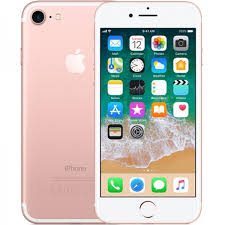iphone: (91, 1, 202, 225), (18, 1, 94, 225)
iphone7: (92, 1, 203, 225)
